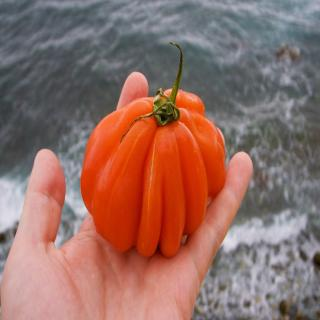tomato: (92, 84, 206, 259)
